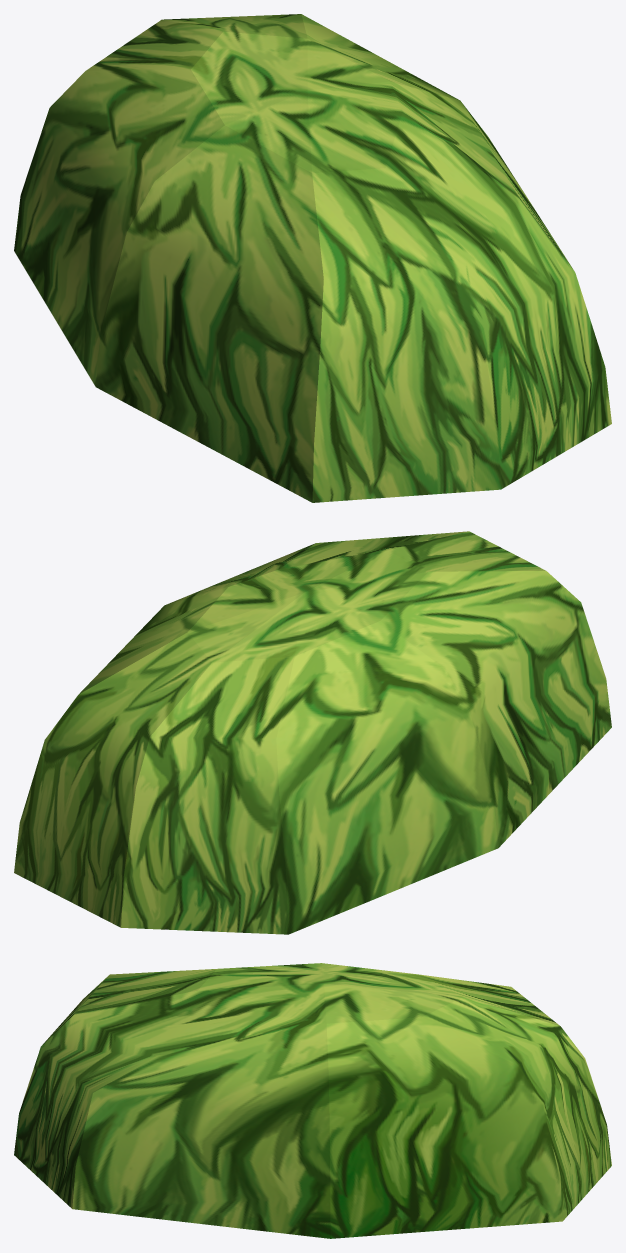
The model's file is Bush2.glb.
3 views of the same model, one above another, from view 1: azimuth 30°, elevation 25°; view 2: azimuth 150°, elevation 25°; view 3: azimuth 270°, elevation 25° (orthographic). The views are drawn at different scales.
Visible parts, largest first — view 1: Bush2; view 2: Bush2; view 3: Bush2.
Part boxes in pixels (x1,y1,x2,y2): Bush2: (14,14,611,502); Bush2: (14,531,611,934); Bush2: (14,963,611,1238).
Bounding box in the file's own units: 0.6799 × 0.362 × 1.11.
Materials: 1 (1 with a texture image).
